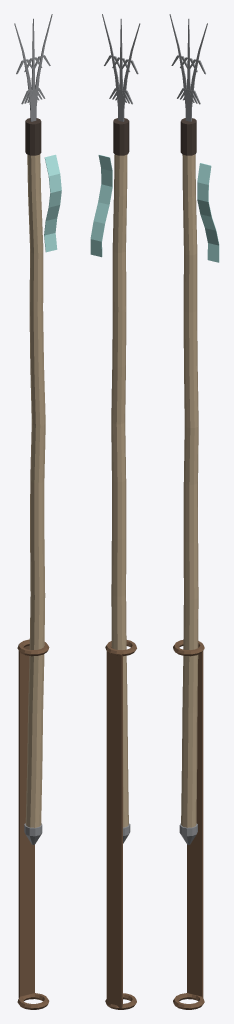
File: reedholt-leister.glb
The picture shows the model from 3 angles, left to right: view 1: azimuth 30°, elevation 25°; view 2: azimuth 150°, elevation 25°; view 3: azimuth 330°, elevation 25°; orthographic projection.
Visible parts, largest first — view 1: weapon, carrier; view 2: weapon, carrier; view 3: weapon, carrier.
Part boxes in pixels (x1,y1,x2,y2): weapon: (14,14,61,844); carrier: (17,639,49,1009); weapon: (90,14,140,843); carrier: (105,640,136,1009); weapon: (169,14,219,844); carrier: (173,640,204,1009).
Bounding box in the file's own units: 0.1229 × 2.51 × 0.0721.
